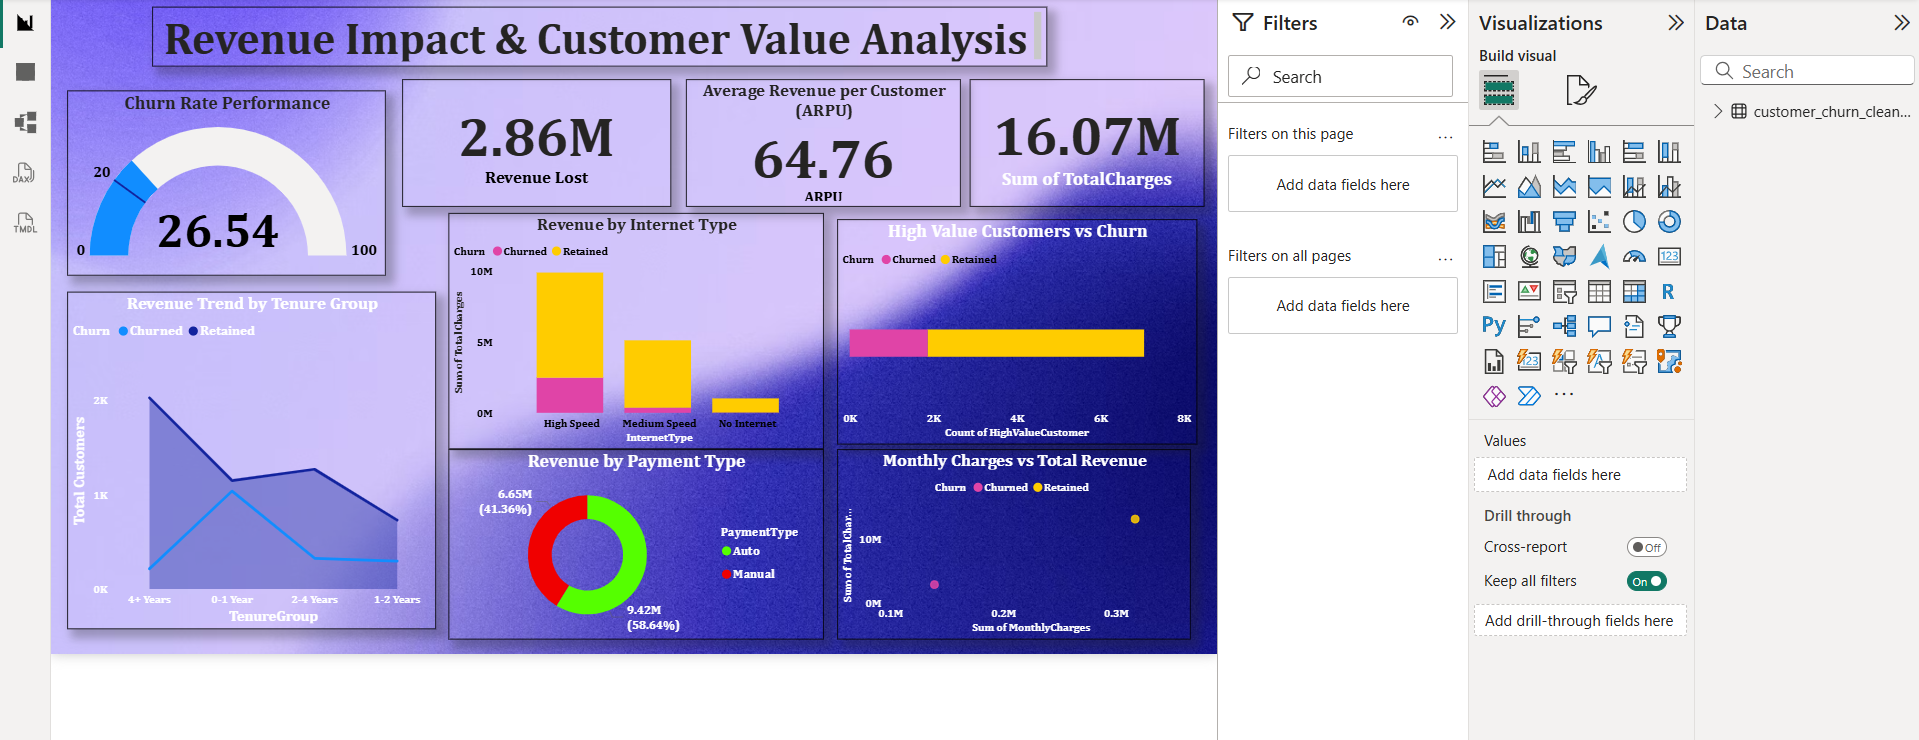

The dashboard page shown, as its layout file describes it:
{"tool":"powerbi","page":{"name":"Page 3","canvas":[1280,720],"ordinal":2},"visuals":[{"type":"card","fields":{"Values":["Sum(customer_churn_cleaned.TotalCharges)"]},"box":[1008.6,89.2,258,140],"z":0},{"type":"textbox","box":[111.1,9.6,982.5,65.9],"z":1000},{"type":"card","fields":{"Values":["customer_churn_cleaned.Revenue Lost"]},"box":[385.6,89.2,295,140],"z":2000},{"type":"card","title":"Average Revenue per Customer (ARPU)","fields":{"Values":["customer_churn_cleaned.ARPU"]},"box":[697.1,89.2,301.9,140],"z":3000},{"type":"gauge","title":"Churn Rate Performance","fields":{"Y":["customer_churn_cleaned.Churn Rate"],"MinValue":["customer_churn_cleaned.Min Churn"],"MaxValue":["customer_churn_cleaned.Max Churn"],"TargetValue":["customer_churn_cleaned.Target Churn"]},"box":[17.8,101.5,349.9,203.1],"z":4000},{"type":"columnChart","title":"Revenue by Internet Type","fields":{"Y":["Sum(customer_churn_cleaned.TotalCharges)"],"Series":["customer_churn_cleaned.Churn"],"Category":["customer_churn_cleaned.InternetType"]},"box":[436.4,236,411.7,259.3],"z":5000},{"type":"barChart","title":"High Value Customers vs Churn","fields":{"Y":["CountNonNull(customer_churn_cleaned.HighValueCustomer)"],"Series":["customer_churn_cleaned.Churn"]},"box":[863.1,242.9,395.2,247],"z":6000},{"type":"areaChart","title":"Revenue Trend by Tenure Group","fields":{"Category":["customer_churn_cleaned.TenureGroup"],"Y":["customer_churn_cleaned.Total Customers"],"Series":["customer_churn_cleaned.Churn"]},"box":[17.8,322.5,404.8,370.5],"z":7000},{"type":"scatterChart","title":"Monthly Charges vs Total Revenue","fields":{"X":["Sum(customer_churn_cleaned.MonthlyCharges)"],"Y":["Sum(customer_churn_cleaned.TotalCharges)"],"Series":["customer_churn_cleaned.Churn"]},"box":[863.1,495.4,388.3,208.6],"z":8000},{"type":"donutChart","title":"Revenue by Payment Type","fields":{"Y":["Sum(customer_churn_cleaned.TotalCharges)"],"Category":["customer_churn_cleaned.PaymentType"]},"box":[436.4,495.4,411.7,208.6],"z":9000}]}

Visuals, with their boxes on the page's 1280x720 design canvas (x1, y1, x2, y2). These are canvas units, not pixel positions in the 1919x740 screenshot, which may show the page scaled, cropped or inside an application window:
card - Sum(customer_churn_cleaned.TotalCharges): (1009, 89, 1267, 229)
textbox: (111, 10, 1094, 76)
card - customer_churn_cleaned.Revenue Lost: (386, 89, 681, 229)
"Average Revenue per Customer (ARPU)" card: (697, 89, 999, 229)
"Churn Rate Performance" gauge: (18, 102, 368, 305)
"Revenue by Internet Type" columnChart: (436, 236, 848, 495)
"High Value Customers vs Churn" barChart: (863, 243, 1258, 490)
"Revenue Trend by Tenure Group" areaChart: (18, 322, 423, 693)
"Monthly Charges vs Total Revenue" scatterChart: (863, 495, 1251, 704)
"Revenue by Payment Type" donutChart: (436, 495, 848, 704)
